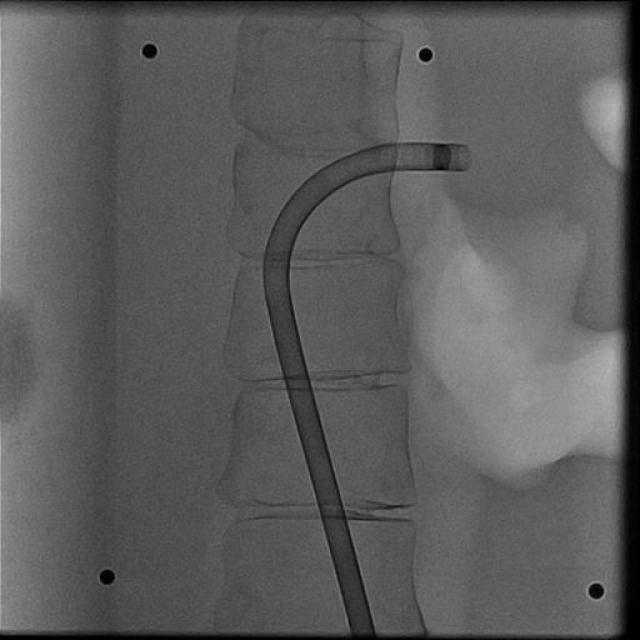bend: (264, 273, 290, 295)
entry: (350, 630, 376, 636)
marker: (432, 143, 452, 171)
tip: (453, 145, 473, 171)
